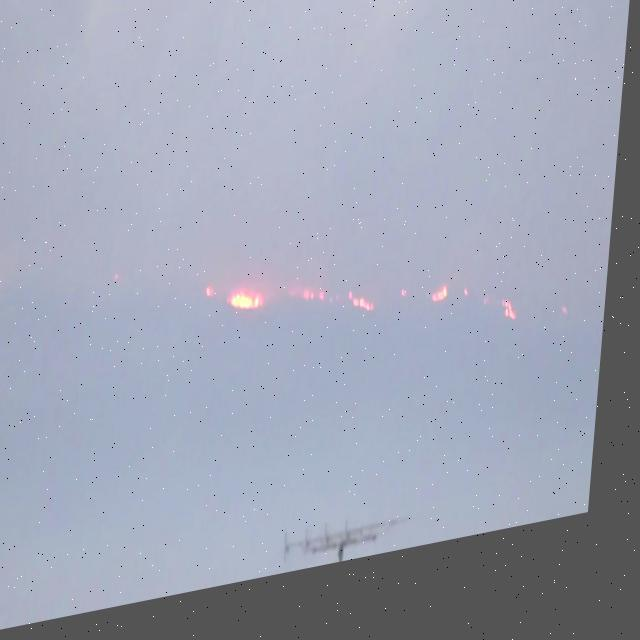Fire: (296, 291, 332, 320), (234, 296, 269, 325), (352, 300, 382, 332), (506, 318, 524, 344), (438, 306, 454, 322)
